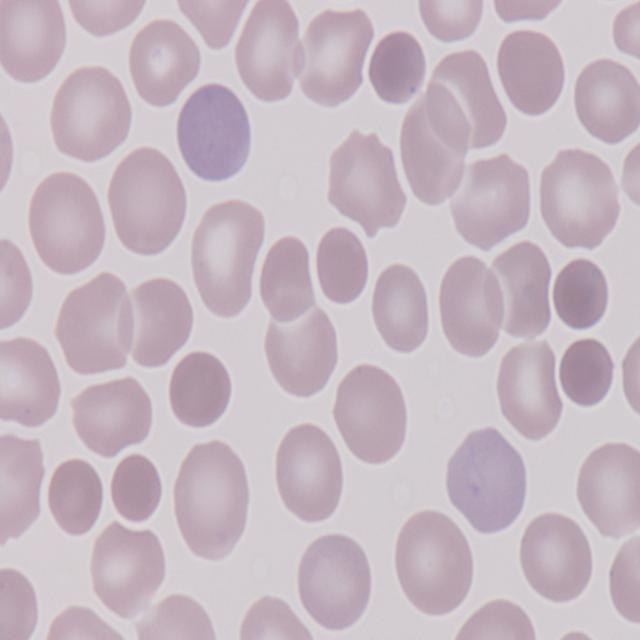RBC: (169, 438, 256, 561), (441, 423, 534, 534), (191, 194, 270, 318), (104, 147, 190, 260), (389, 511, 476, 621), (24, 167, 108, 280), (536, 146, 624, 251), (328, 356, 409, 469), (294, 530, 378, 638), (52, 274, 136, 379), (450, 154, 538, 252), (259, 299, 341, 404), (49, 61, 132, 163), (327, 129, 408, 231), (84, 520, 168, 618), (273, 422, 349, 529), (297, 2, 373, 106), (516, 509, 594, 608), (232, 0, 306, 104), (492, 334, 562, 442), (437, 252, 508, 358), (70, 373, 157, 458), (127, 16, 205, 110), (493, 26, 568, 123), (122, 275, 194, 368), (574, 440, 640, 540), (569, 53, 640, 145), (0, 0, 70, 86), (0, 334, 63, 429), (371, 261, 433, 357), (258, 232, 320, 322), (0, 432, 47, 546), (140, 589, 224, 640), (232, 592, 320, 640), (448, 600, 546, 640), (0, 235, 37, 338), (38, 602, 136, 640), (173, 0, 247, 50), (63, 0, 151, 41), (412, 0, 490, 44), (604, 533, 640, 628), (0, 563, 41, 640), (485, 0, 581, 22), (610, 0, 640, 66), (618, 332, 640, 420), (618, 134, 640, 211)
Spherocyte: (178, 78, 253, 186), (166, 347, 234, 433), (46, 456, 110, 541), (366, 30, 431, 110), (557, 334, 618, 414), (552, 256, 613, 334), (312, 225, 370, 306), (108, 449, 167, 528)
